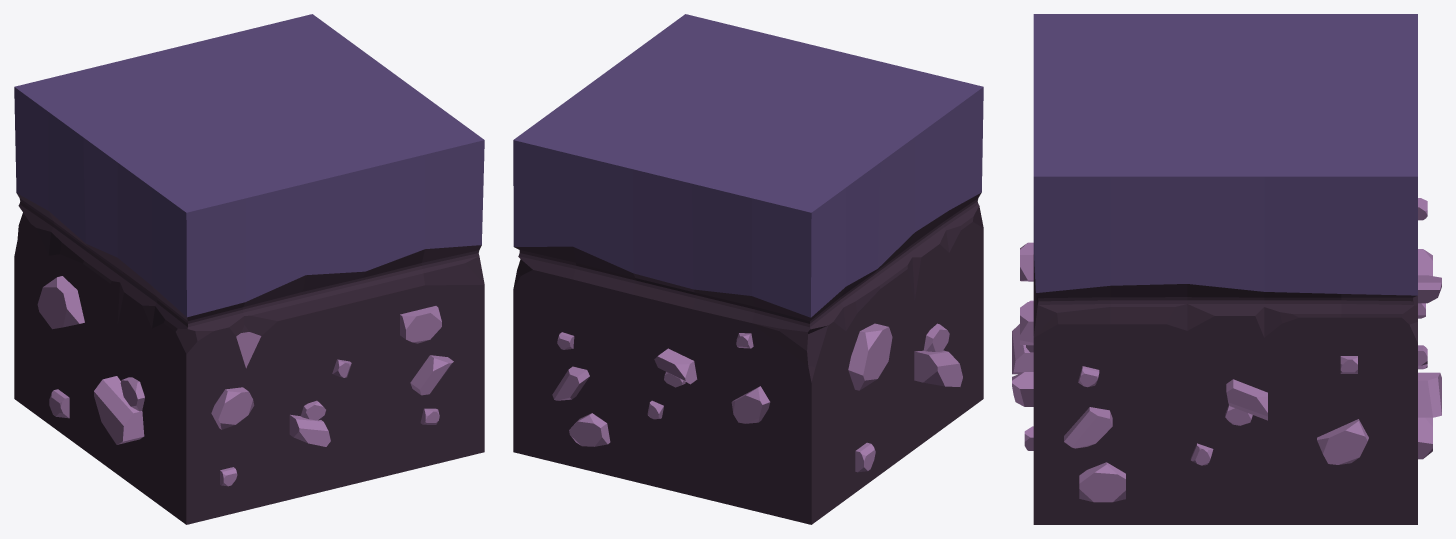
The model's file is DefaultTile.fbx.
3 renders of one model, left to right at view 1: azimuth 30°, elevation 25°; view 2: azimuth 150°, elevation 25°; view 3: azimuth 270°, elevation 25°, orthographic. The views are drawn at different scales.
Parts seen in each view (by area): view 1: Grass; view 2: Grass; view 3: Grass.
Part boxes in pixels (bbox=[...]): Grass: bbox=[14, 14, 484, 524]; Grass: bbox=[513, 14, 983, 524]; Grass: bbox=[1012, 14, 1441, 524].
Bounding box in the file's own units: 227 × 200 × 224.
